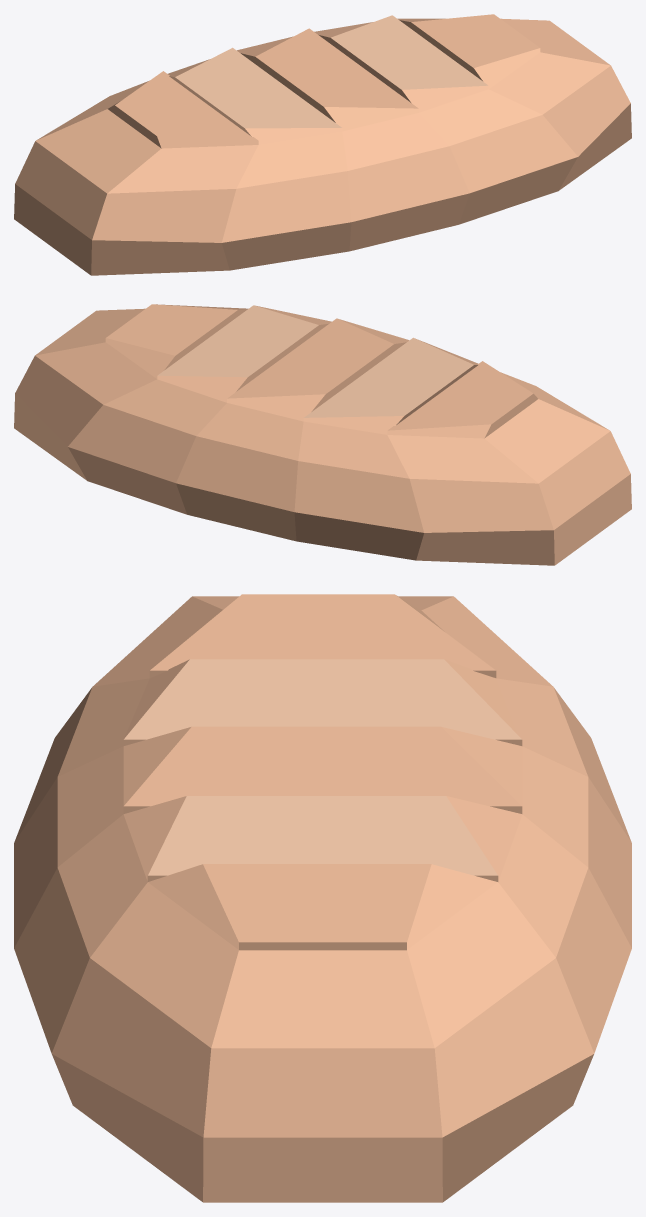
The model's file is bread-type-001.obj.
The picture shows the model from 3 angles, top to bottom: view 1: azimuth 30°, elevation 25°; view 2: azimuth 150°, elevation 25°; view 3: azimuth 270°, elevation 25°; orthographic projection. The views are drawn at different scales.
Parts seen in each view (by area): view 1: bread-type-001; view 2: bread-type-001; view 3: bread-type-001.
Boxes of the visible parts, bbox=[...] form: bread-type-001: bbox=[14, 14, 631, 275]; bread-type-001: bbox=[14, 304, 631, 565]; bread-type-001: bbox=[14, 594, 631, 1202].
Bounding box in the file's own units: 0.3378 × 0.0648 × 0.1819.
